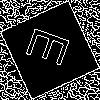E: (25, 25, 80, 72)
